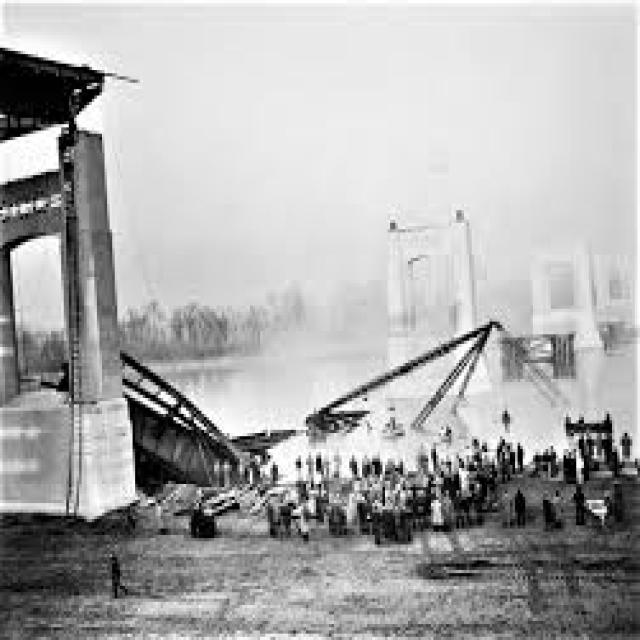bridge collapse: (74, 236, 545, 560)
